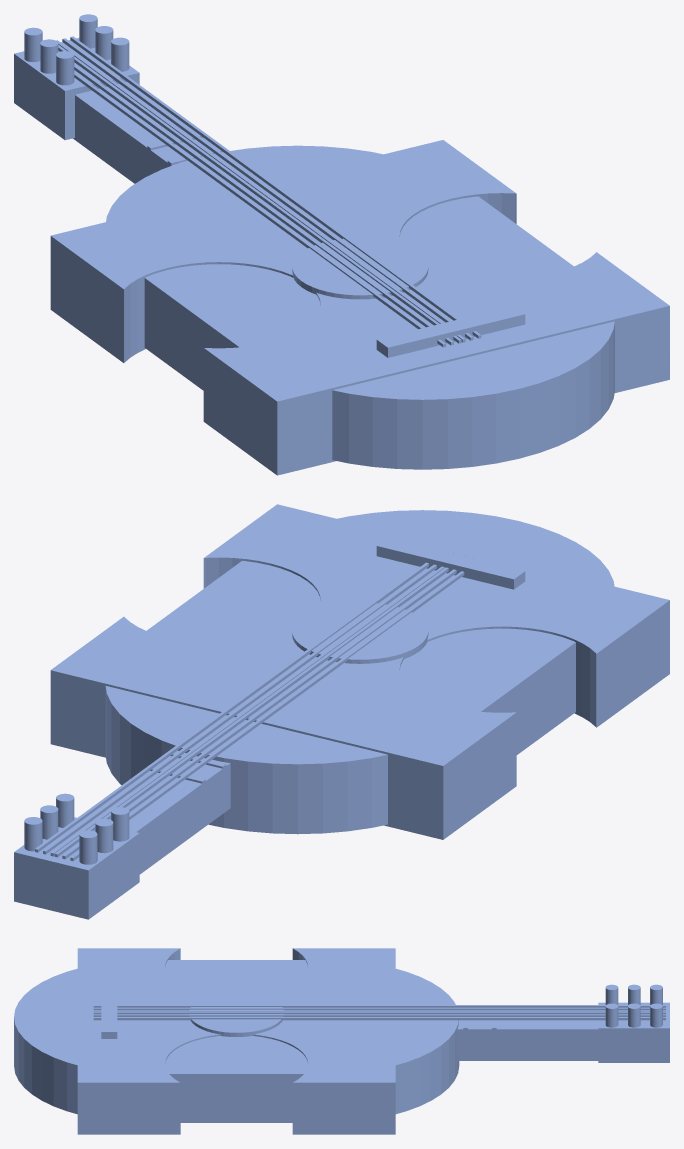
The model's file is guitar-22942b7c.glb.
3 views of the same model, one above another, from view 1: azimuth 30°, elevation 25°; view 2: azimuth 150°, elevation 25°; view 3: azimuth 270°, elevation 25° (orthographic). The views are drawn at different scales.
Parts seen in each view (by area): view 1: output; view 2: output; view 3: output.
Boxes of the visible parts, x1,y1,x2,y2 form: output: [14, 14, 669, 475]; output: [14, 504, 669, 919]; output: [14, 948, 669, 1134].
Bounding box in the file's own units: 1.12 × 0.2844 × 2.3.
